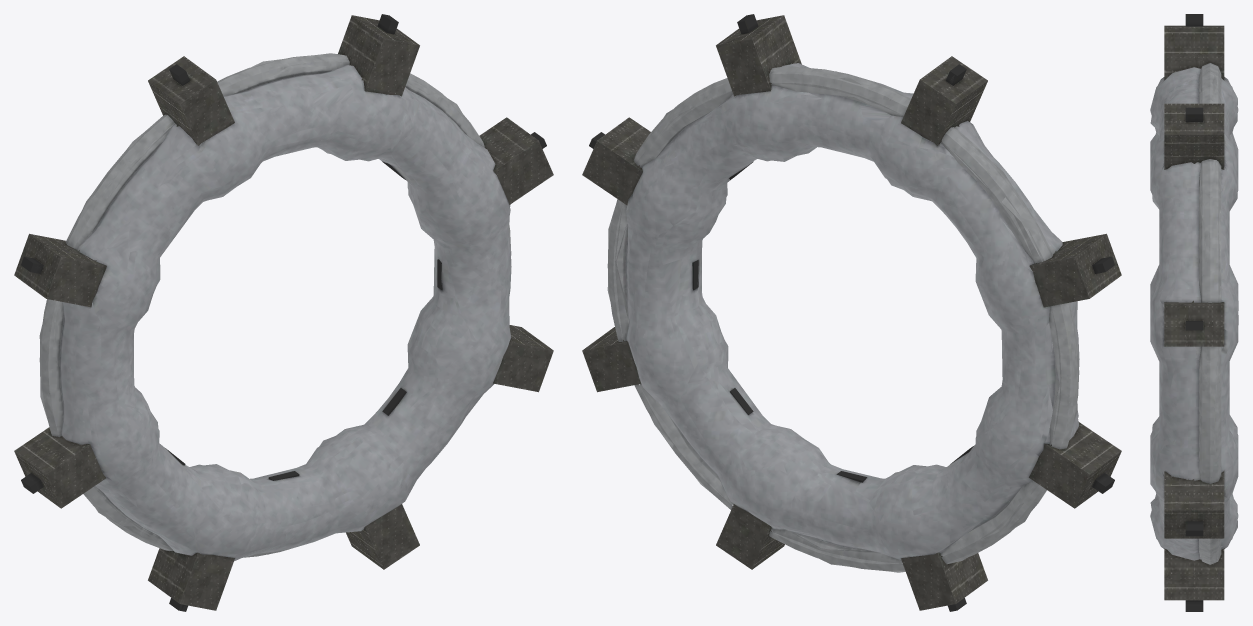
File: sd_prop_gate_ankora.glb
3 views of the same model, side by side, from view 1: azimuth 30°, elevation 25°; view 2: azimuth 150°, elevation 25°; view 3: azimuth 270°, elevation 25° (orthographic). The views are drawn at different scales.
Parts seen in each view (by area): view 1: LOD0_body, LOD1_body; view 2: LOD0_body, LOD1_body; view 3: LOD0_body, LOD1_body.
Boxes of the visible parts, bbox=[...] form: LOD0_body: bbox=[14, 14, 553, 611]; LOD1_body: bbox=[33, 31, 510, 610]; LOD0_body: bbox=[582, 14, 1121, 611]; LOD1_body: bbox=[607, 66, 1102, 572]; LOD0_body: bbox=[1150, 14, 1238, 611]; LOD1_body: bbox=[1150, 63, 1238, 561].
Size of the model in its own units: 1 by 1 by 0.1595.
1 material, 1 textured.
